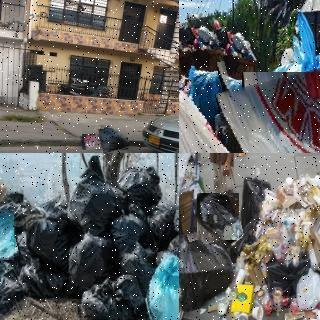Garbage: (179, 20, 268, 153), (228, 64, 320, 153), (179, 228, 236, 310), (289, 6, 320, 153), (67, 155, 120, 230), (24, 204, 81, 272), (67, 230, 117, 295), (80, 273, 145, 320), (140, 246, 179, 320), (206, 63, 248, 129), (195, 191, 242, 242), (116, 165, 161, 211), (241, 176, 268, 231), (95, 121, 129, 153), (0, 209, 16, 261), (81, 133, 101, 150)
